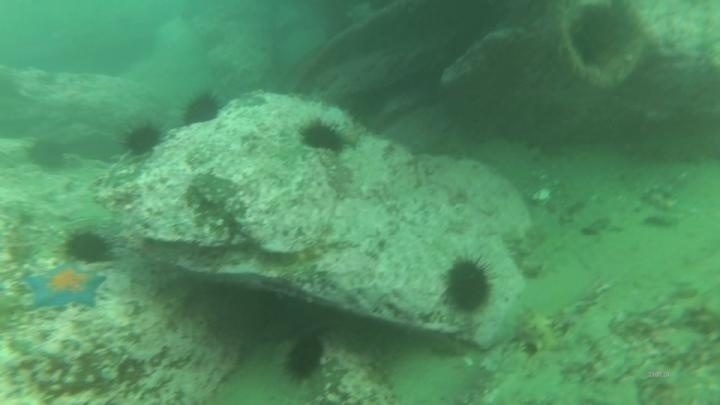echinus: (442, 255, 495, 316), (282, 332, 327, 382), (63, 228, 114, 265), (298, 118, 347, 155), (179, 90, 223, 129), (25, 136, 70, 174), (121, 120, 165, 158)
holothurian: (510, 305, 565, 357)
starfish: (23, 262, 108, 312), (336, 119, 367, 151)
